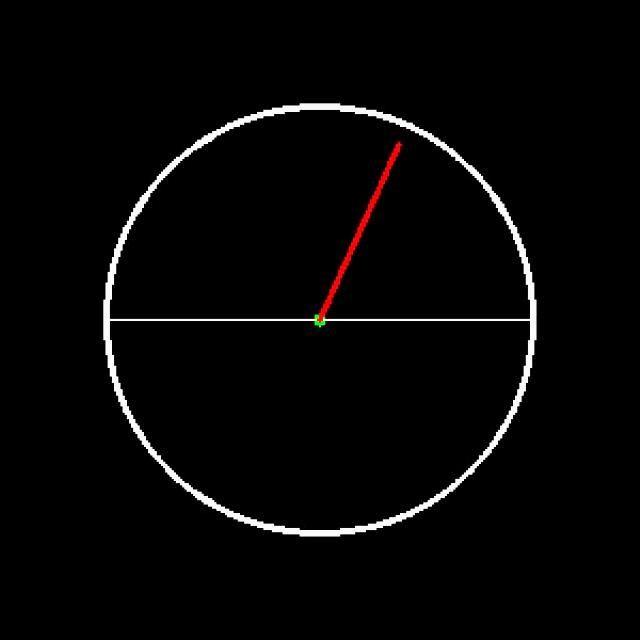Needle_Tip: (359, 105, 432, 199)
Needle_base: (287, 285, 348, 354)
